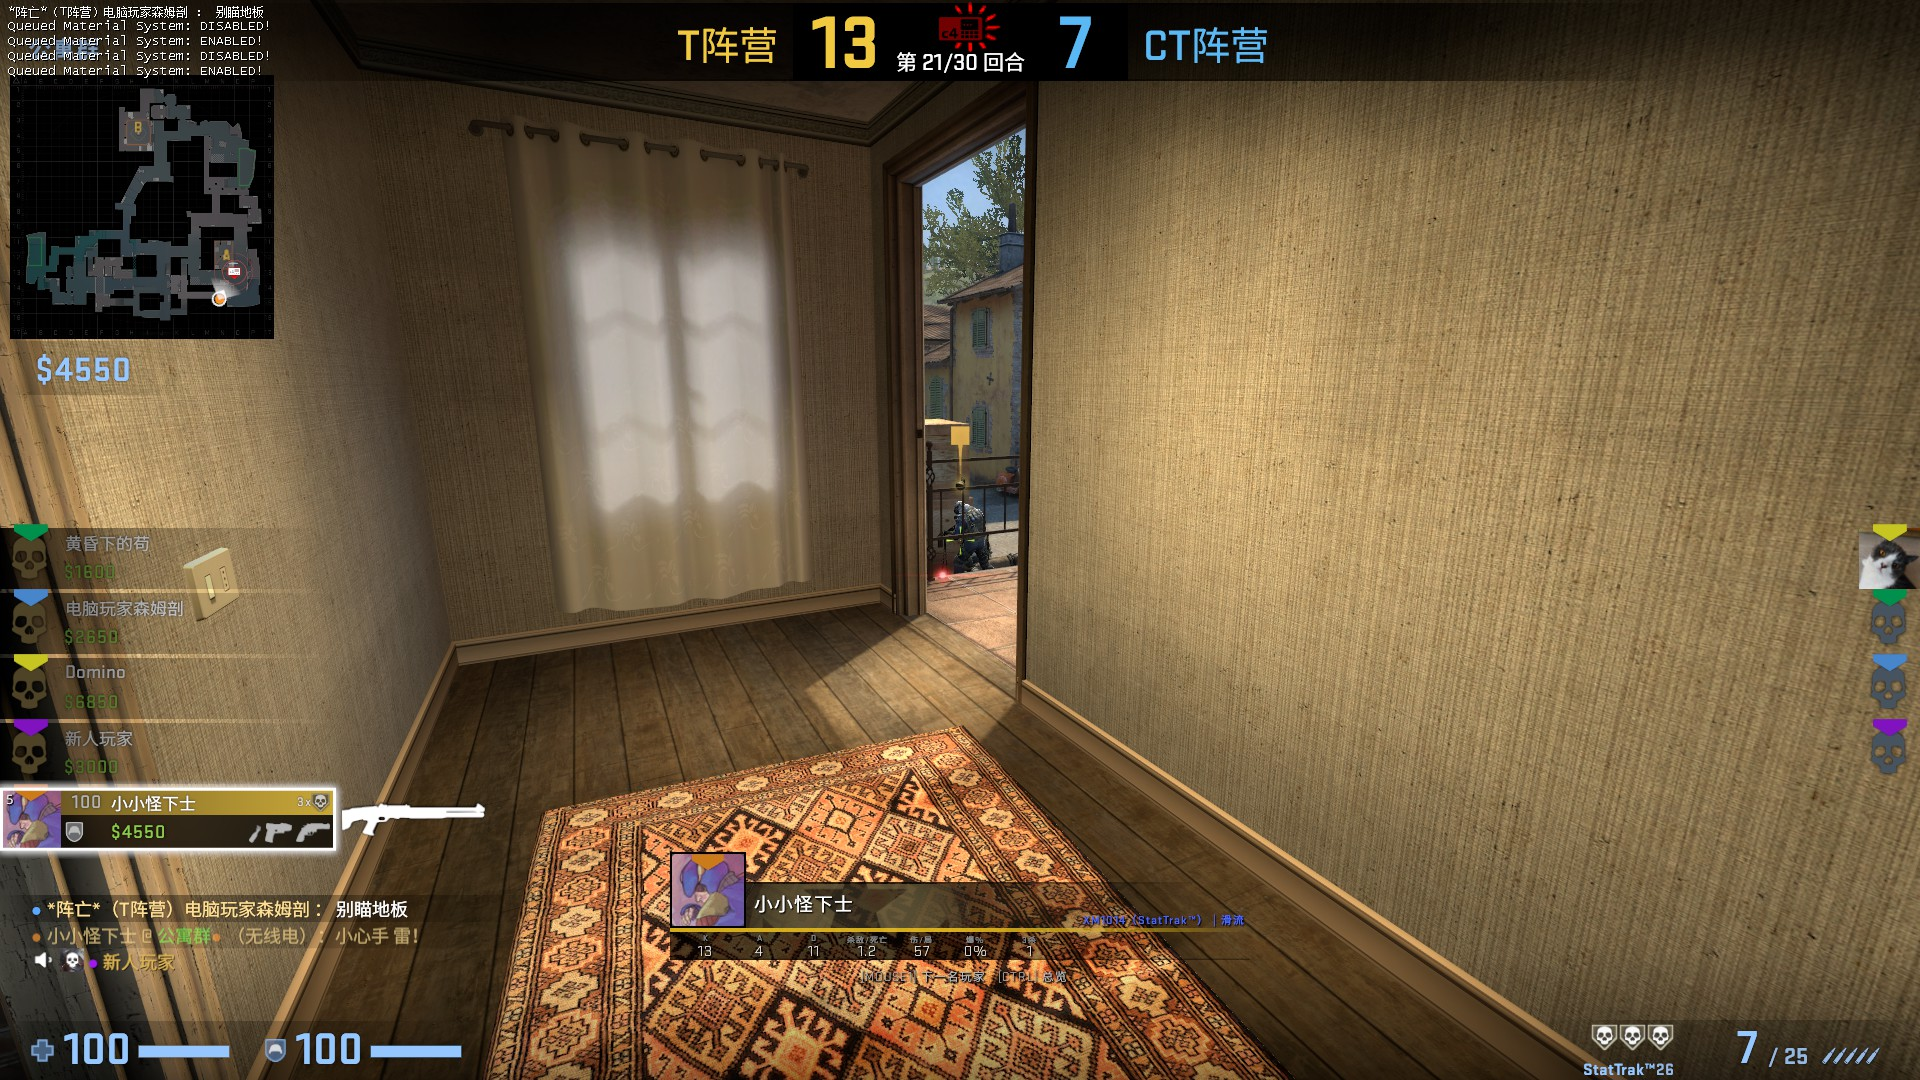head: (950, 498, 969, 514)
